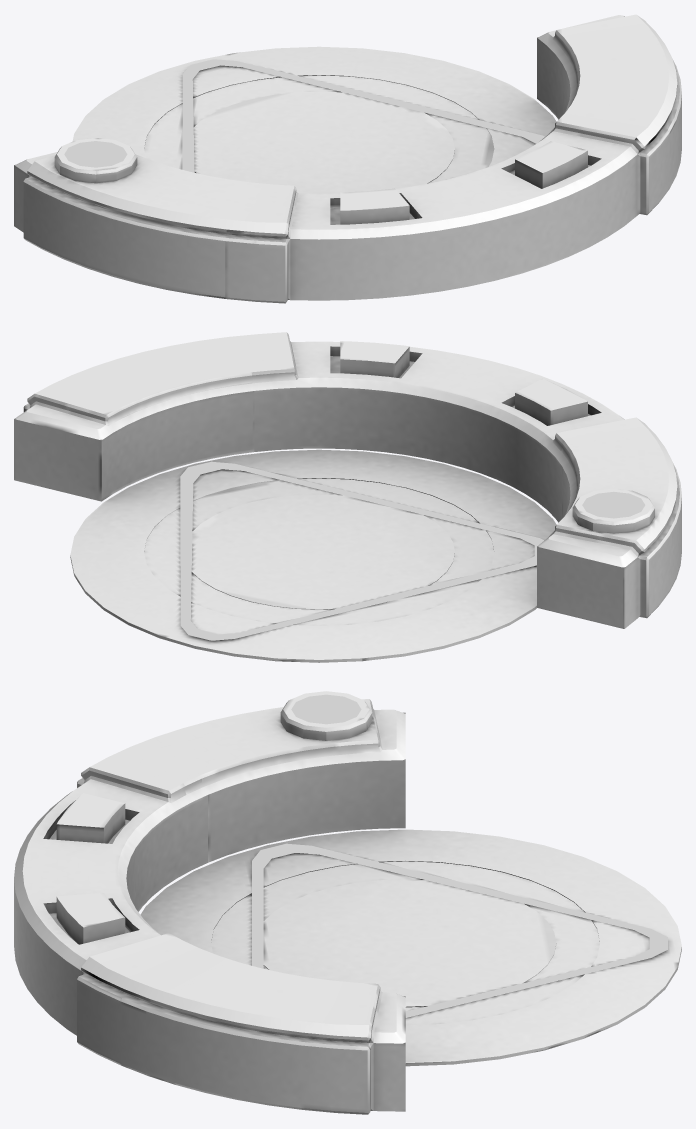
File: SM_DockingStation.fbx
The picture shows the model from 3 angles, top to bottom: view 1: azimuth 30°, elevation 25°; view 2: azimuth 150°, elevation 25°; view 3: azimuth 270°, elevation 25°; orthographic projection. The views are drawn at different scales.
Visible parts, largest first — view 1: SM_DockingStation, SM_DockingStationBase; view 2: SM_DockingStation, SM_DockingStationBase; view 3: SM_DockingStation, SM_DockingStationBase.
Part boxes in pixels (x1,y1,x2,y2): SM_DockingStation: (14,14,681,303); SM_DockingStationBase: (72,46,556,193); SM_DockingStation: (14,332,681,628); SM_DockingStationBase: (70,449,556,662); SM_DockingStation: (14,691,405,1114); SM_DockingStationBase: (140,829,681,1066).
Size of the model in its own units: 0.7439 by 0.1224 by 0.8935.
